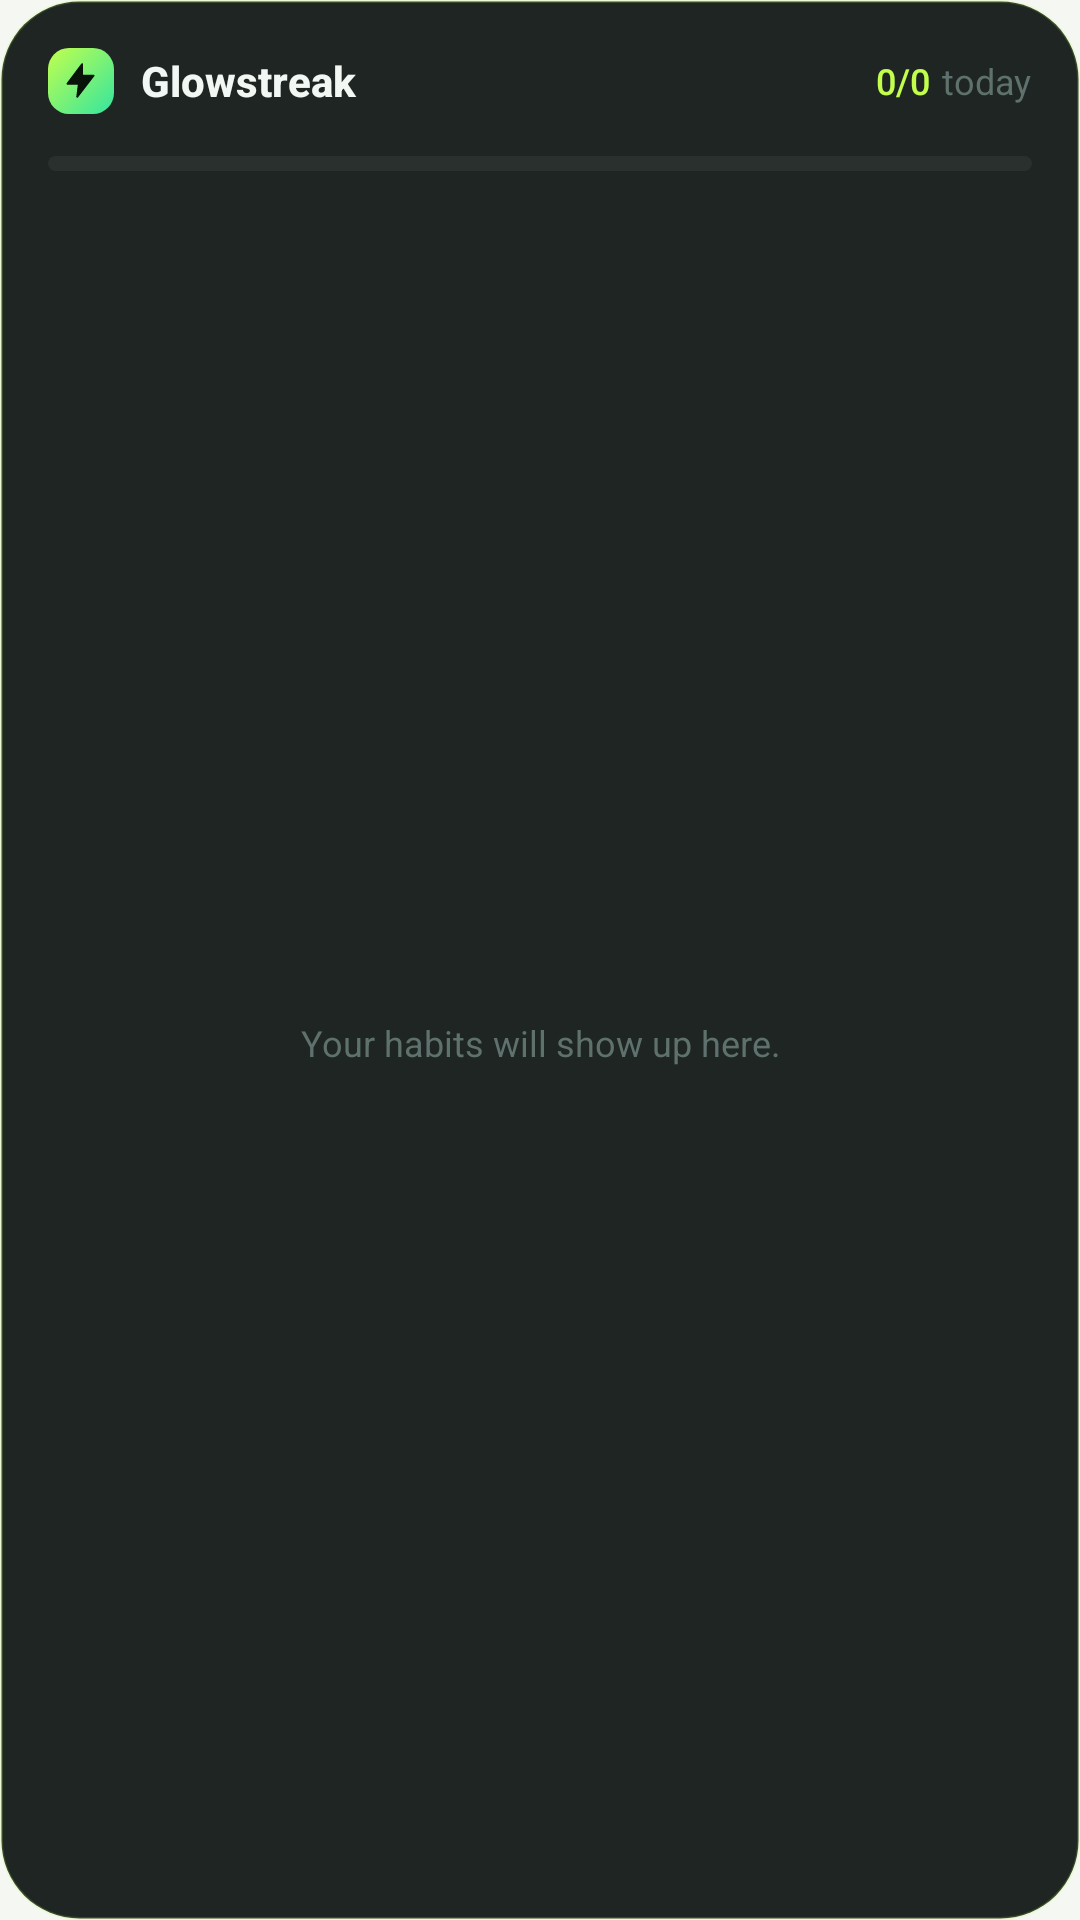

Named icons in this screenshot (1080×1920) and their centers, [x,y]:
bolt: [80,80]
